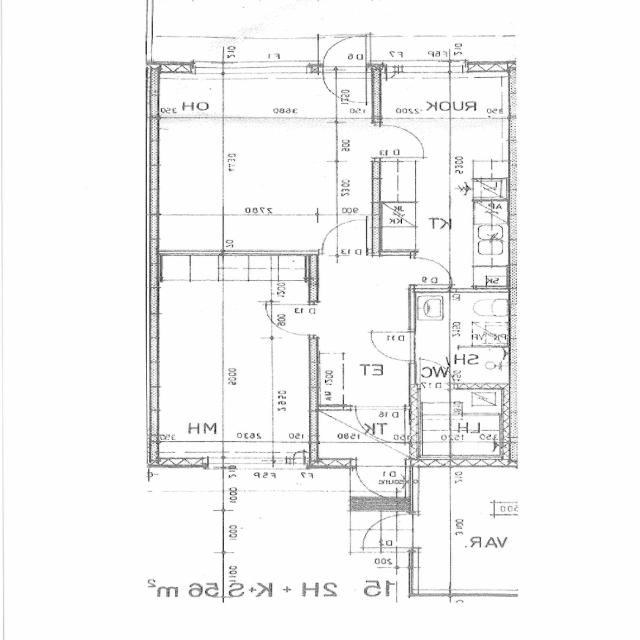door: (355, 458, 407, 504), (359, 513, 420, 548), (355, 405, 406, 446), (323, 60, 367, 103), (323, 29, 367, 71), (372, 125, 428, 157), (264, 304, 319, 335), (323, 220, 367, 256), (368, 332, 415, 361), (410, 257, 456, 285), (421, 358, 455, 389)
